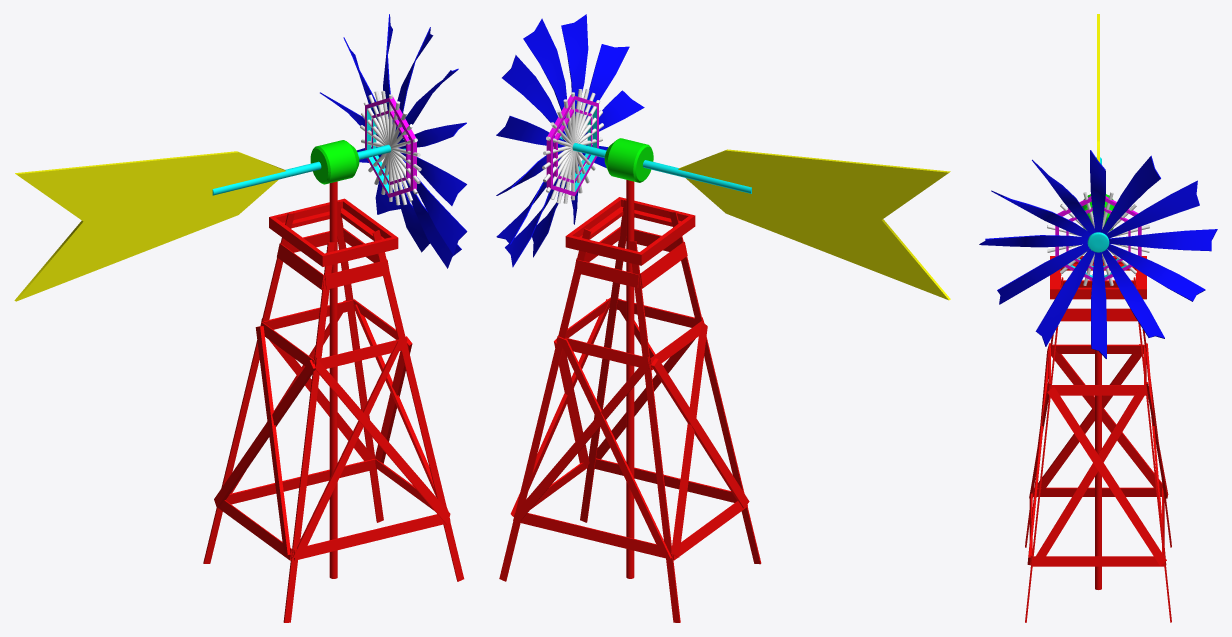
3 renders of one model, left to right at view 1: azimuth 30°, elevation 25°; view 2: azimuth 150°, elevation 25°; view 3: azimuth 270°, elevation 25°, orthographic. The views are drawn at different scales.
Parts seen in each view (by area): view 1: polySurface96, polySurface126, polySurface121, polySurface102, polySurface93, polySurface97, polySurface95; view 2: polySurface96, polySurface126, polySurface121, polySurface102, polySurface93, polySurface97, polySurface95; view 3: polySurface96, polySurface121, polySurface102, polySurface97, polySurface126, polySurface95.
Boxes of the visible parts, x1,y1,x2,y2 form: polySurface96: (203,181,464,622); polySurface126: (14,151,285,301); polySurface121: (320,14,467,268); polySurface102: (360,91,421,205); polySurface93: (310,140,359,184); polySurface97: (365,97,416,197); polySurface95: (212,139,405,195); polySurface96: (499,180,761,622); polySurface126: (678,149,950,300); polySurface121: (496,14,644,267); polySurface102: (542,89,603,203); polySurface93: (604,138,653,182); polySurface97: (546,95,598,196); polySurface95: (558,133,751,193); polySurface96: (1025,256,1171,622); polySurface121: (979,150,1217,358); polySurface102: (1047,192,1149,285); polySurface97: (1055,196,1141,280); polySurface126: (1097,14,1099,162); polySurface95: (1087,157,1109,252).
Bounding box in the file's own units: 1.66 × 2 × 0.9017.
